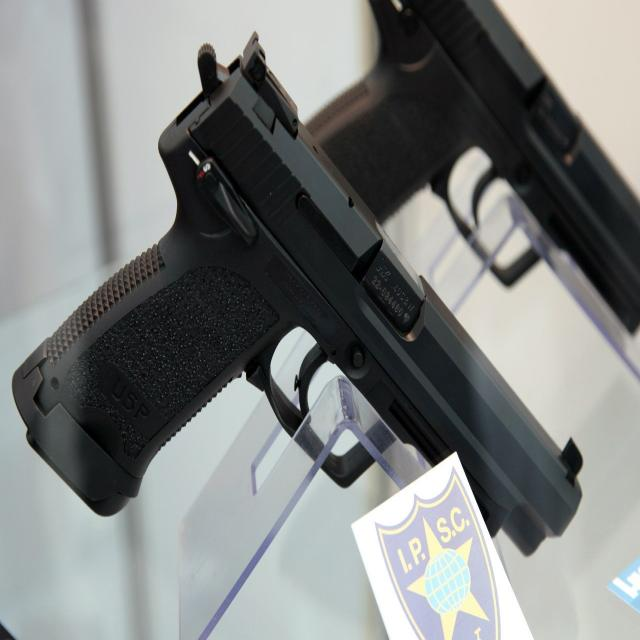pistol: (8, 26, 586, 561), (301, 0, 639, 337)
